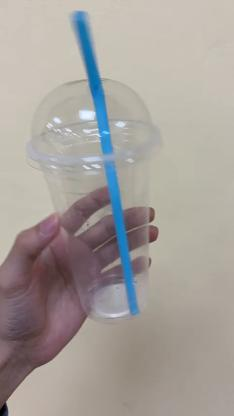Plastic Cup: (23, 75, 165, 318)
